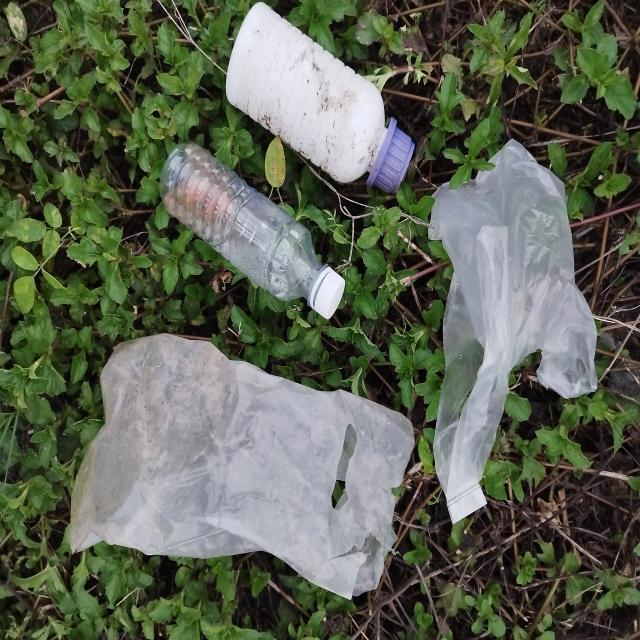bag: (69, 332, 416, 600), (426, 140, 600, 527)
bottle: (225, 0, 417, 198), (160, 144, 346, 323)
